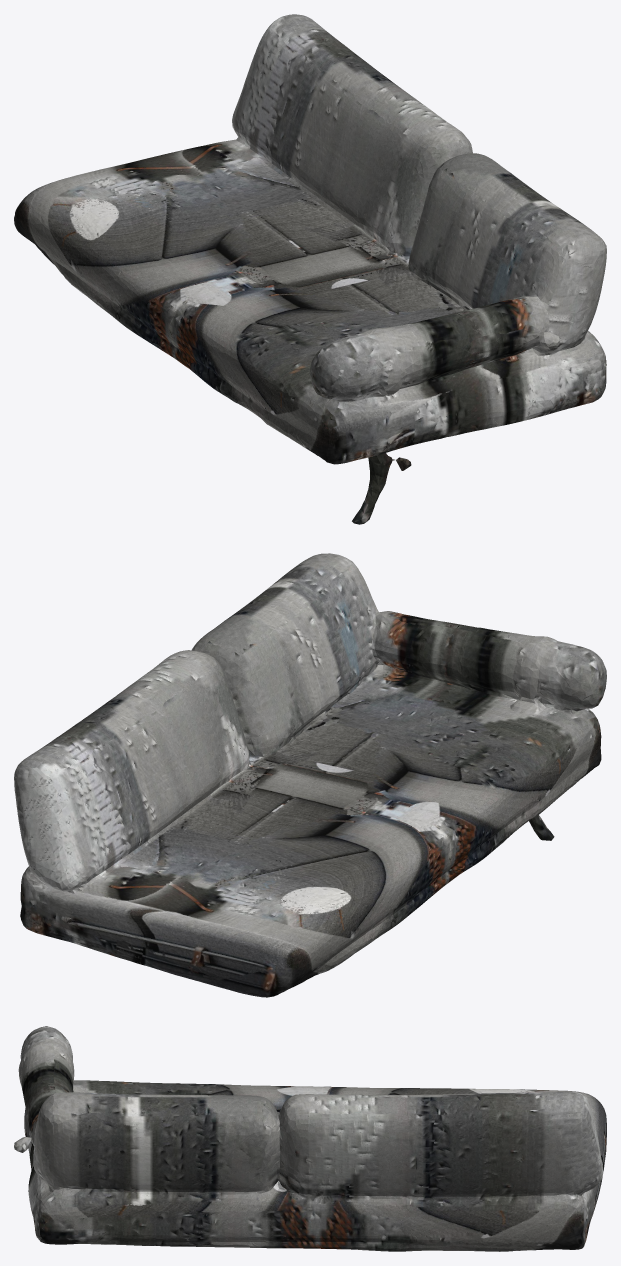
The model's file is living-00-sofa.glb.
3 renders of one model, top to bottom at view 1: azimuth 30°, elevation 25°; view 2: azimuth 150°, elevation 25°; view 3: azimuth 270°, elevation 25°, orthographic. The views are drawn at different scales.
Visible parts, largest first — view 1: geometry_0; view 2: geometry_0; view 3: geometry_0.
Part boxes in pixels (left/top/right/bottom): geometry_0: left=14, top=14, right=606, bottom=524; geometry_0: left=14, top=553, right=606, bottom=997; geometry_0: left=14, top=1026, right=606, bottom=1251.
Size of the model in its own units: 1.62 by 1.24 by 3.14.
1 material, 1 textured.
